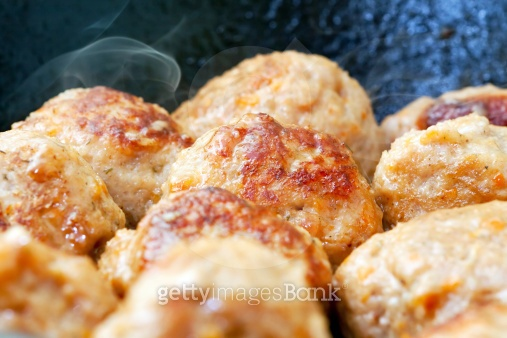meatballs: (3, 52, 492, 327), (169, 120, 381, 252)
